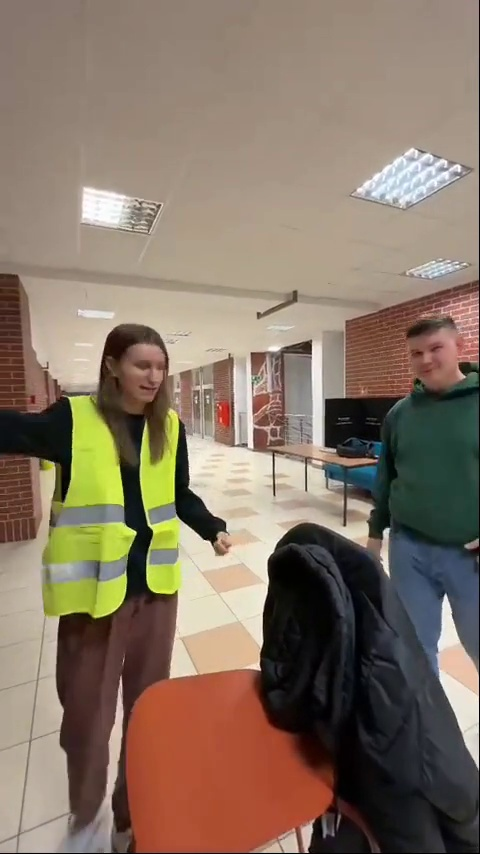no vest: (368, 314, 480, 659)
vest: (39, 323, 227, 854)
